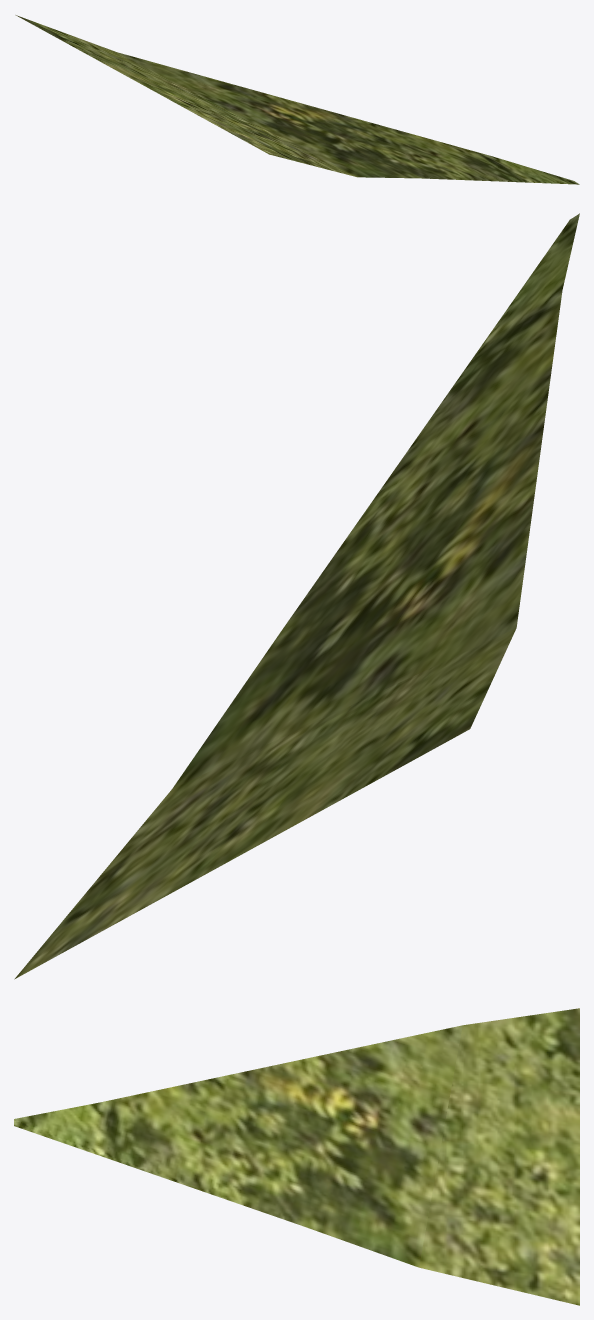
3 renders of one model, top to bottom at view 1: azimuth 30°, elevation 25°; view 2: azimuth 150°, elevation 25°; view 3: azimuth 270°, elevation 25°, orthographic. The views are drawn at different scales.
Size of the model in its own units: 1.4 by 1.06 by 2.95.
Materials: 1 (1 with a texture image).
